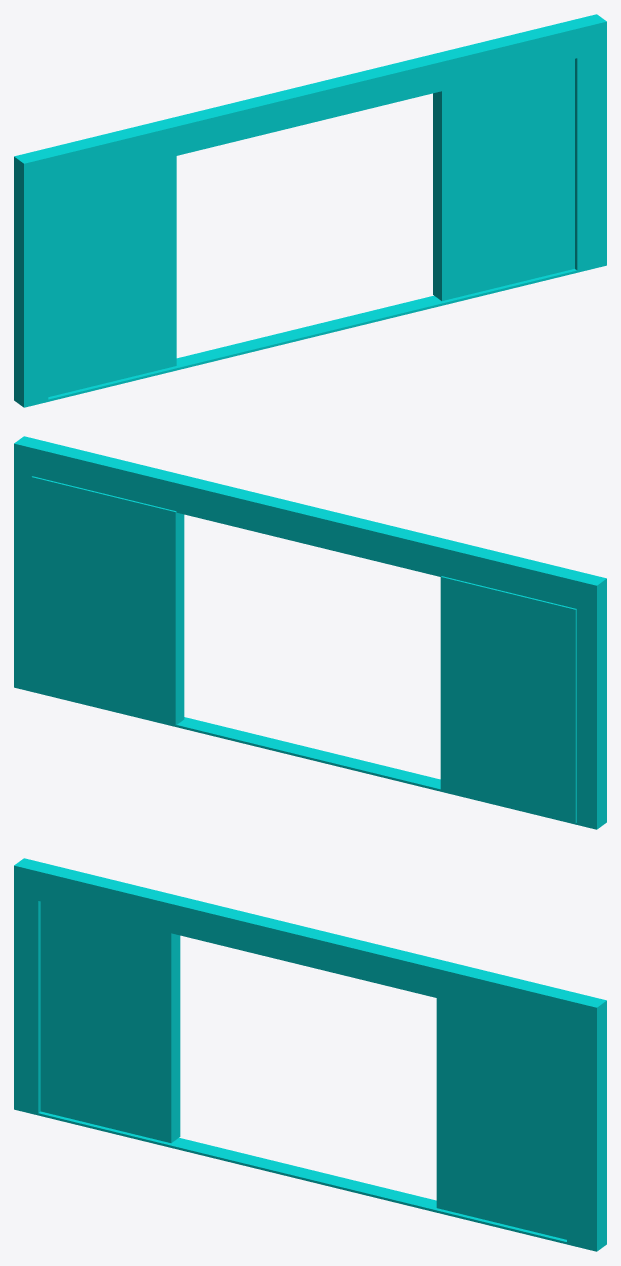
File: SM_Bld_Sliding_Door_02_Collision.fbx
3 renders of one model, top to bottom at view 1: azimuth 30°, elevation 25°; view 2: azimuth 150°, elevation 25°; view 3: azimuth 330°, elevation 25°, orthographic.
Visible parts, largest first — view 1: SM_Bld_Sliding_Door_02_Collision; view 2: SM_Bld_Sliding_Door_02_Collision; view 3: SM_Bld_Sliding_Door_02_Collision.
Boxes of the visible parts, <box> form: SM_Bld_Sliding_Door_02_Collision: <box>14,14,606,407</box>; SM_Bld_Sliding_Door_02_Collision: <box>14,436,606,829</box>; SM_Bld_Sliding_Door_02_Collision: <box>14,858,606,1251</box>.
Bounding box in the file's own units: 750 × 300 × 25.05.
